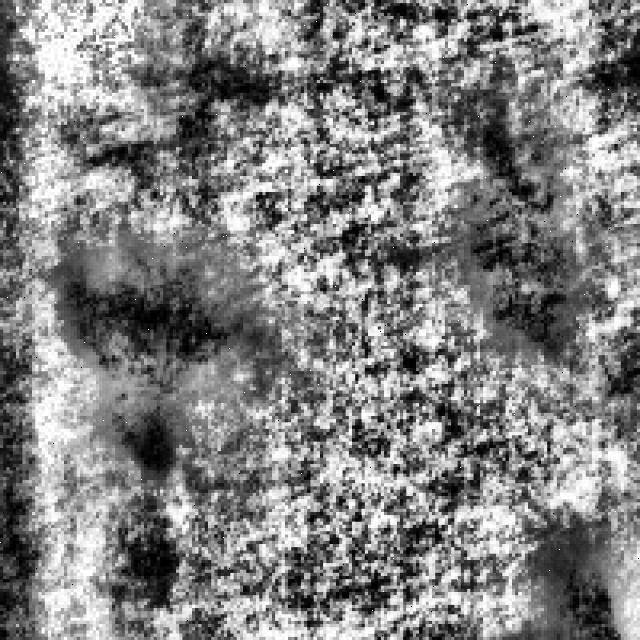Scratches: (45, 237, 256, 467), (454, 109, 570, 342), (518, 518, 618, 637)
